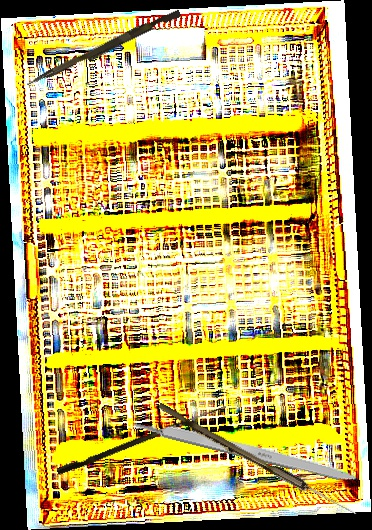Hook Surgical: (56, 398, 227, 478)
Pusher: (25, 5, 182, 93)
Scalpel Handle: (132, 414, 362, 486)
Surgical Spoon: (155, 402, 360, 519)
